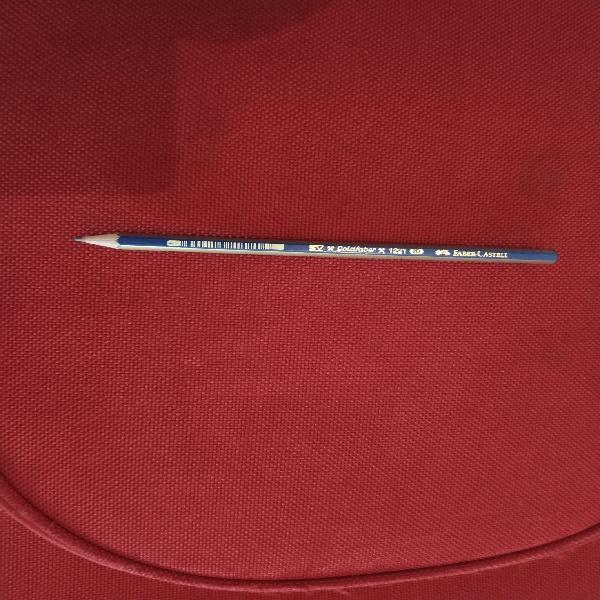pencil: (76, 233, 557, 263)
